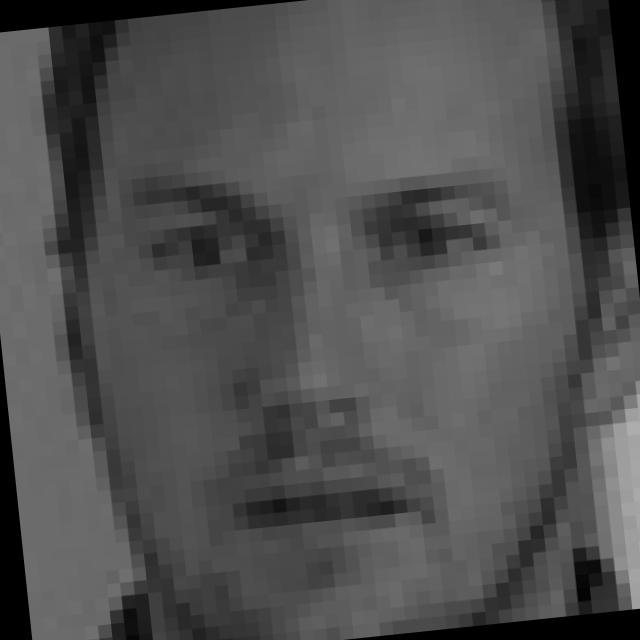neutral: (115, 138, 552, 588)
